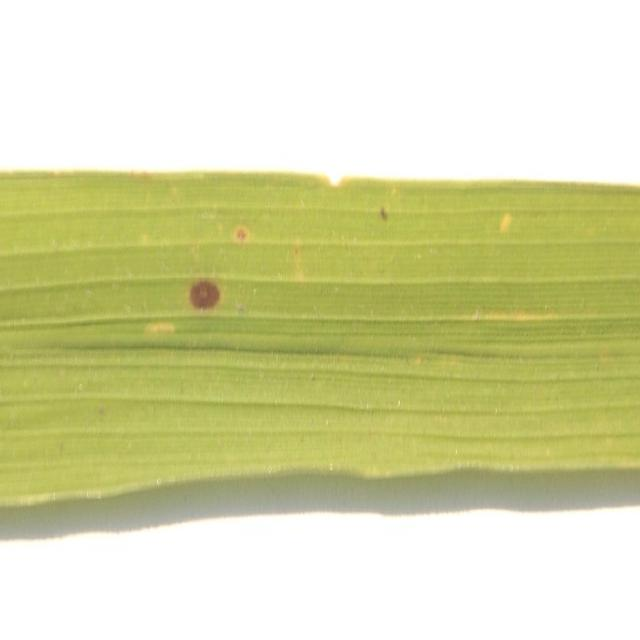Brown_Spot: (176, 235, 226, 328)
